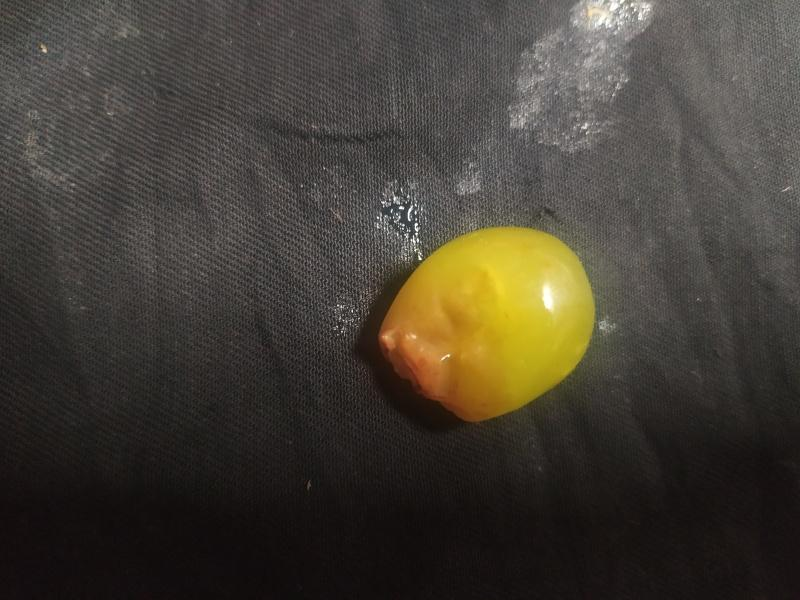Grape Overripe: (372, 225, 597, 425)
